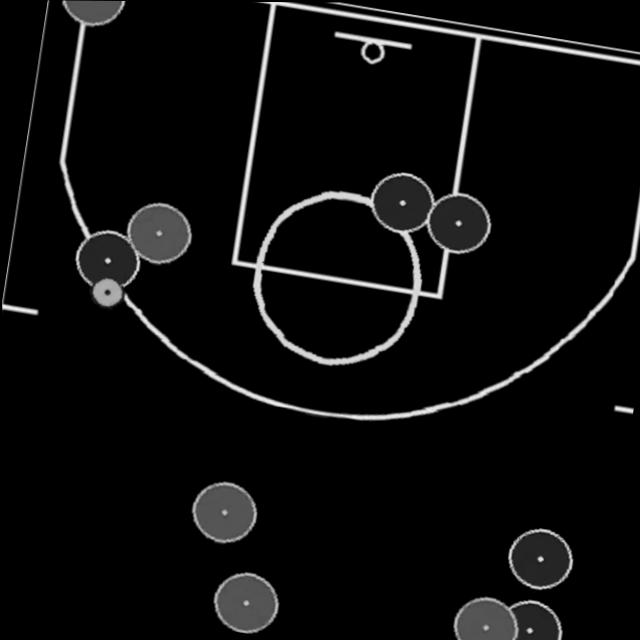Basketball: (89, 277, 123, 308)
Team_A: (506, 527, 571, 588), (75, 229, 139, 289), (426, 191, 490, 251), (369, 171, 432, 231), (497, 597, 561, 640)
Team_B: (190, 480, 255, 542), (212, 571, 277, 632), (126, 201, 190, 262), (452, 595, 516, 640), (61, 0, 123, 24)
